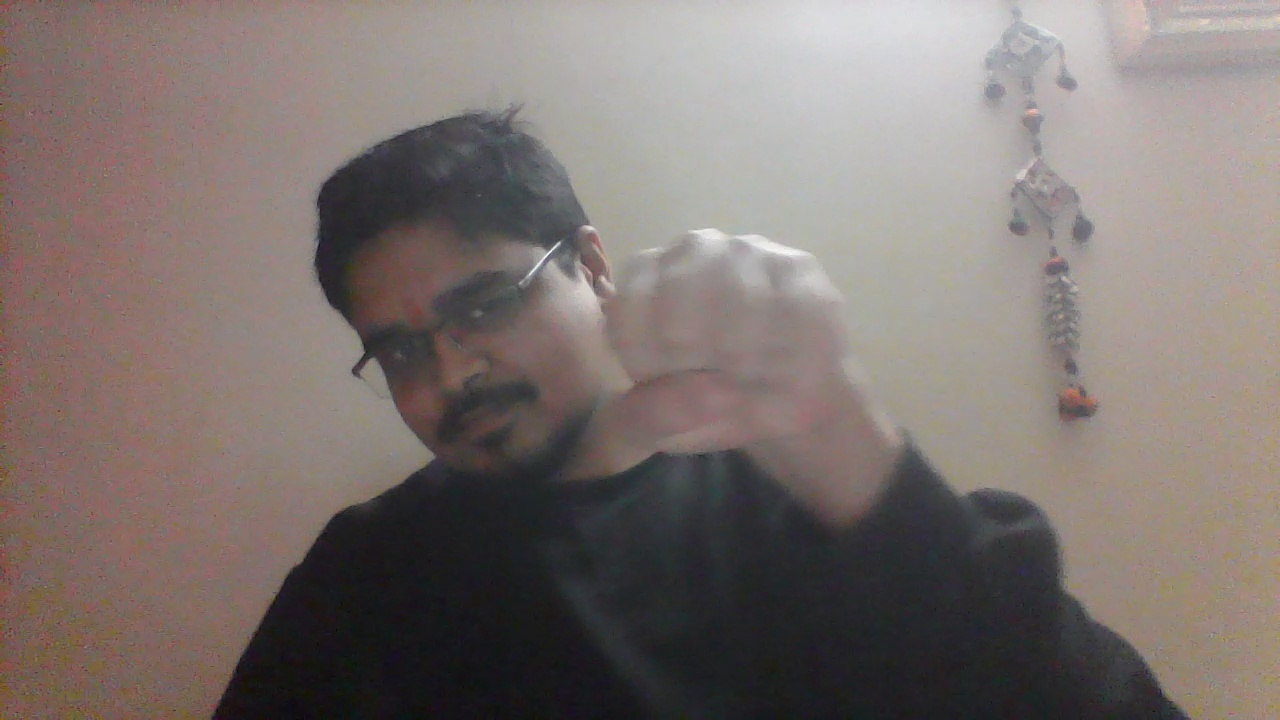Yes: (608, 223, 871, 468)
